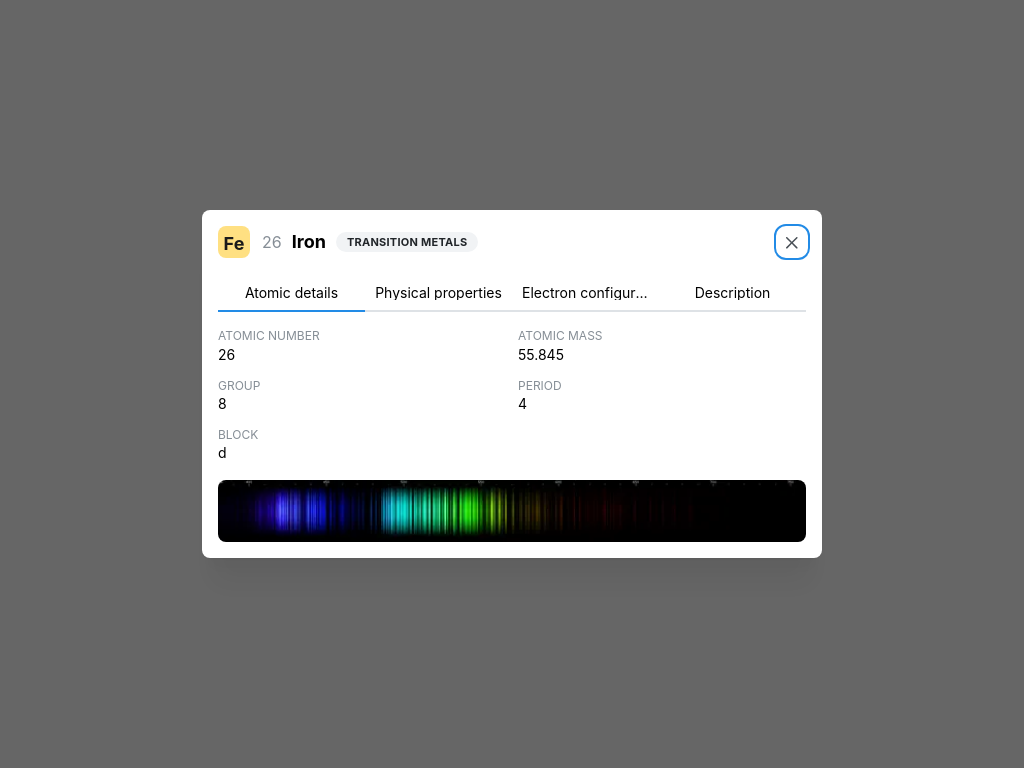
Test case: ElementDetail › keeps the '—' placeholder for unknown temperatures in any unit
The image size is (1024, 768).
Click the tab "Physical properties". click: [438, 293]
box: [365,274,512,312]
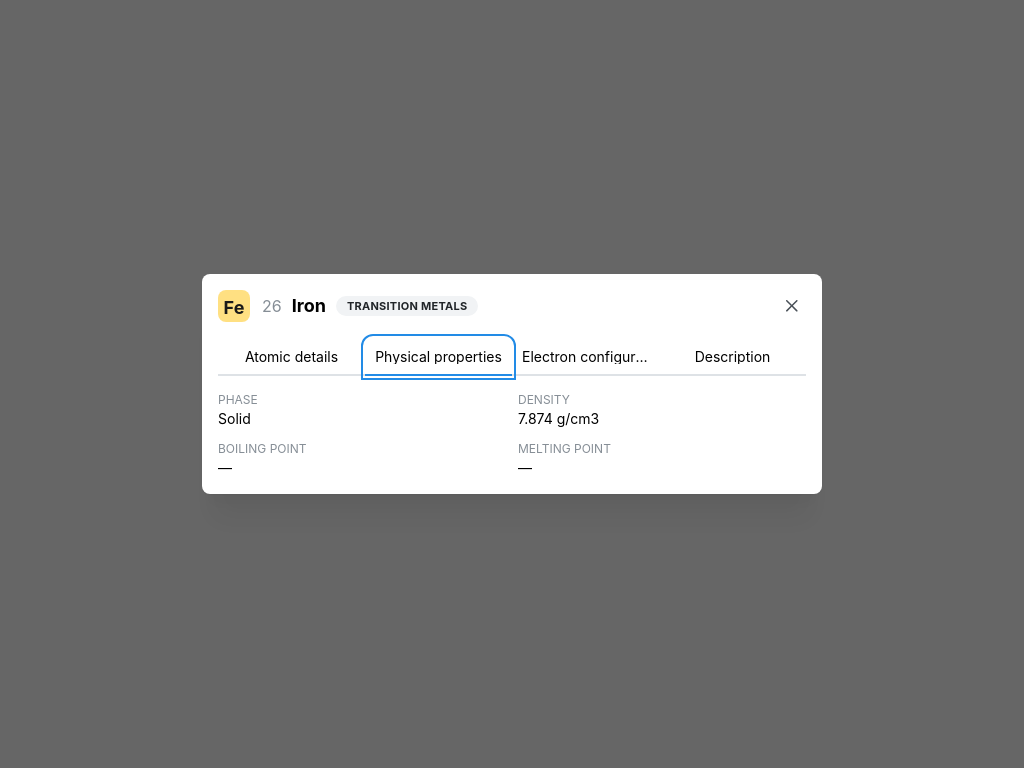
Result: the text "—" is shown 2 times at [218,459,232,476]; [518,459,532,476]
